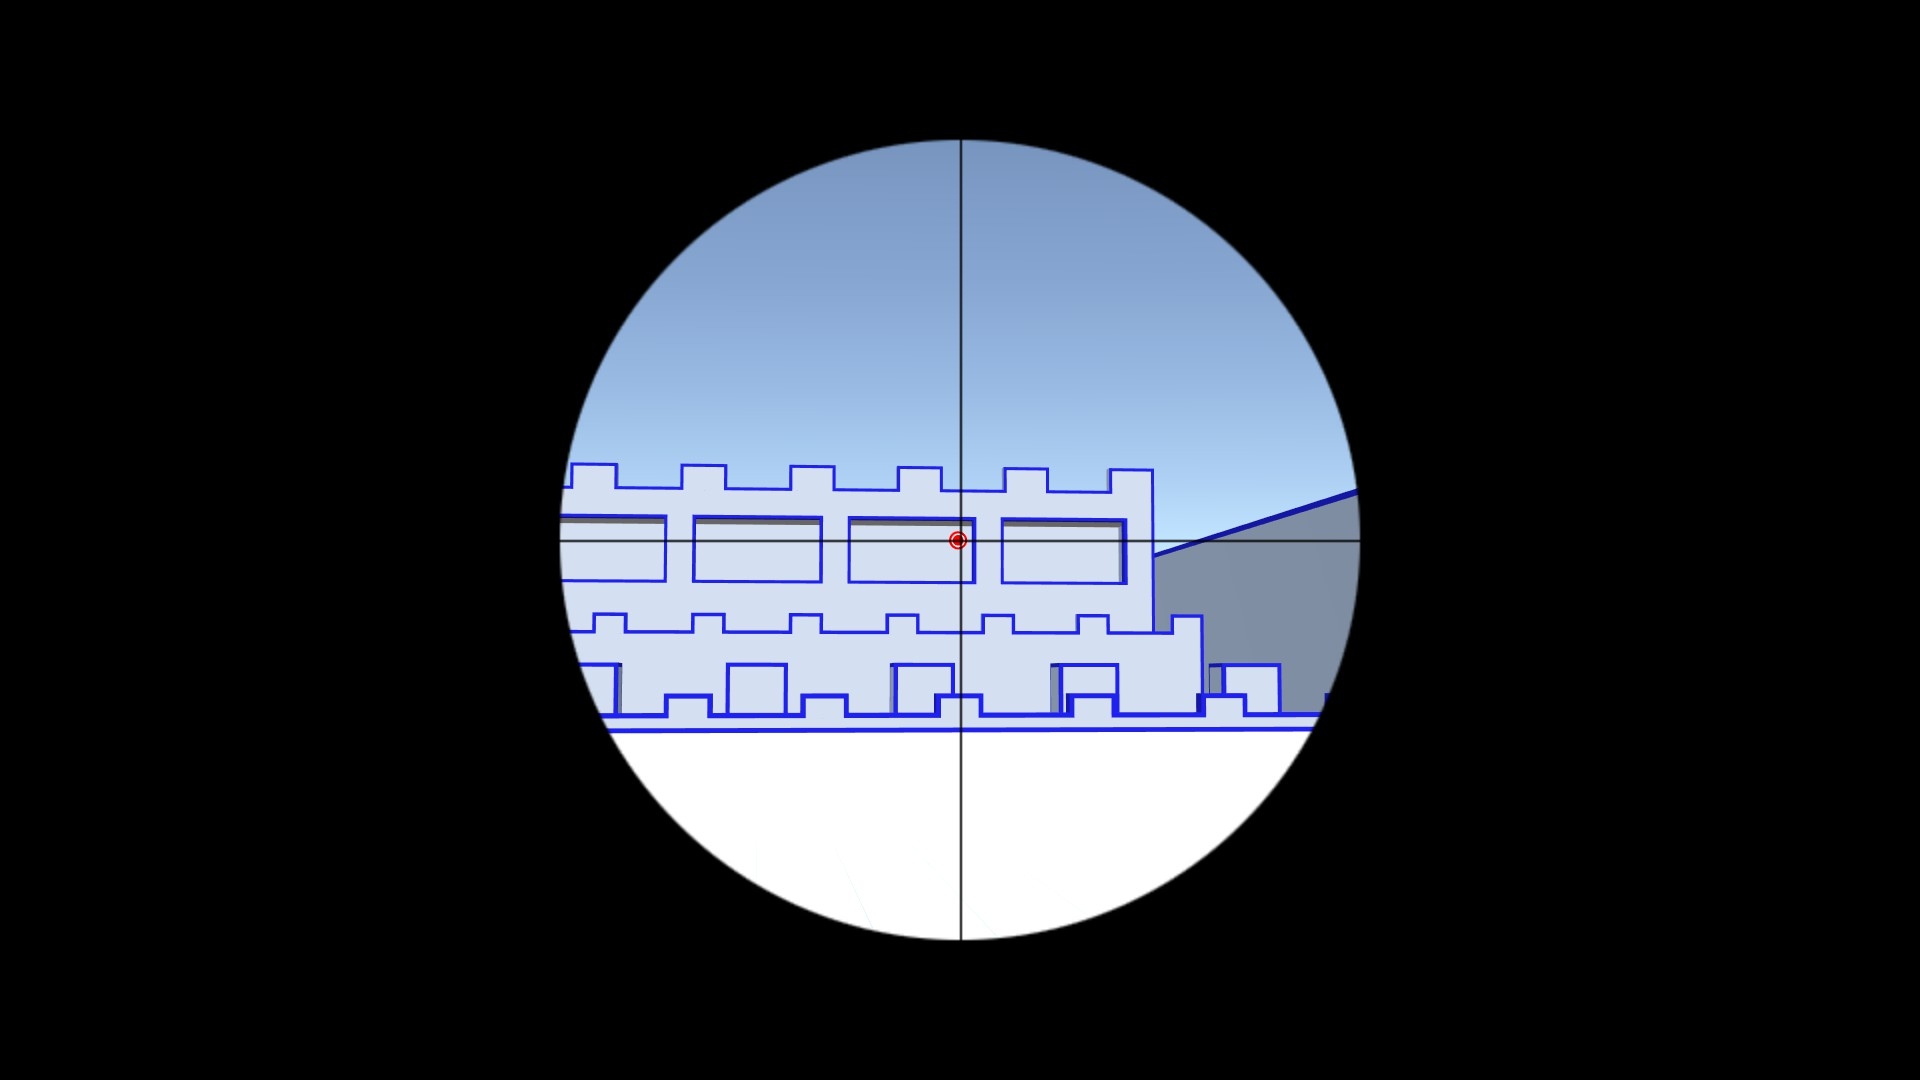target: (949, 530, 969, 550)
